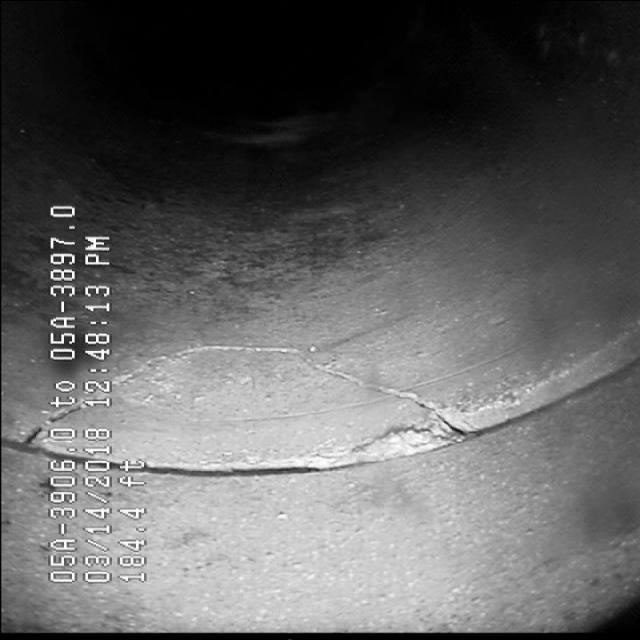Crack: (112, 326, 470, 422)
